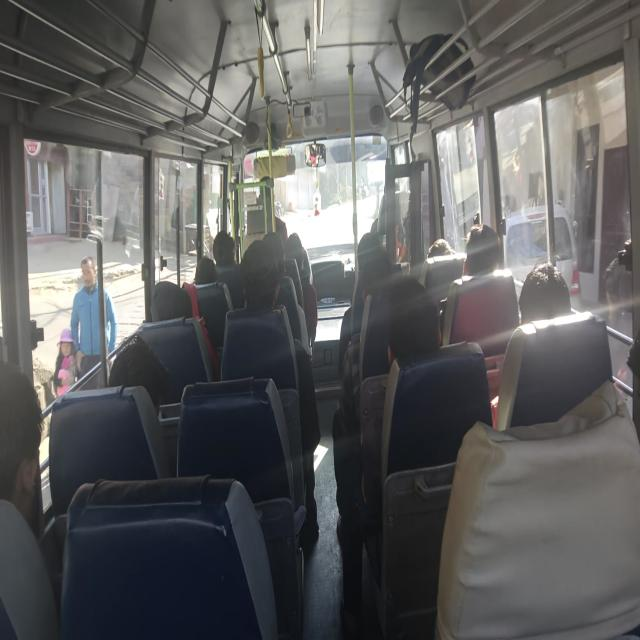person: (0, 381, 49, 518), (386, 275, 444, 375), (522, 260, 576, 346), (224, 237, 286, 308), (118, 335, 174, 402), (458, 222, 504, 294), (258, 223, 298, 285), (156, 280, 198, 328), (182, 247, 214, 298), (364, 253, 402, 294), (213, 228, 245, 270), (284, 234, 310, 282), (433, 233, 456, 276), (352, 239, 388, 263)
